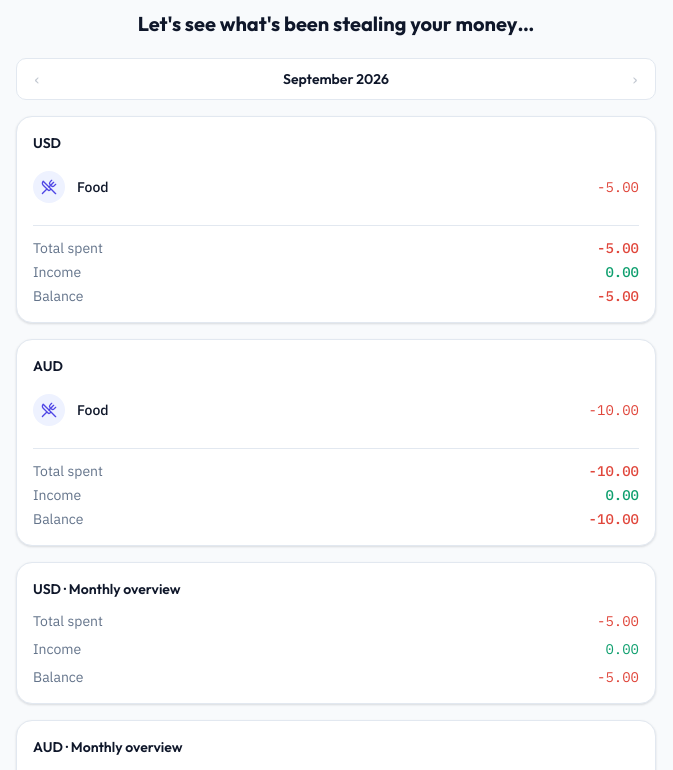
Test: 统计页 · 多币种 › 同名分类出现在两个币种里时，展开一个不会连带展开另一个
Expected: the heading "AUD" is shown, 33,356 -> 63,374
Note: 分类按钮的可访问名现在包含金额文本（按钮内聚了图标+标签+金额）→ 用正则匹配
Click the button "Food -10.00" at (49, 410), box 33,384 -> 639,436
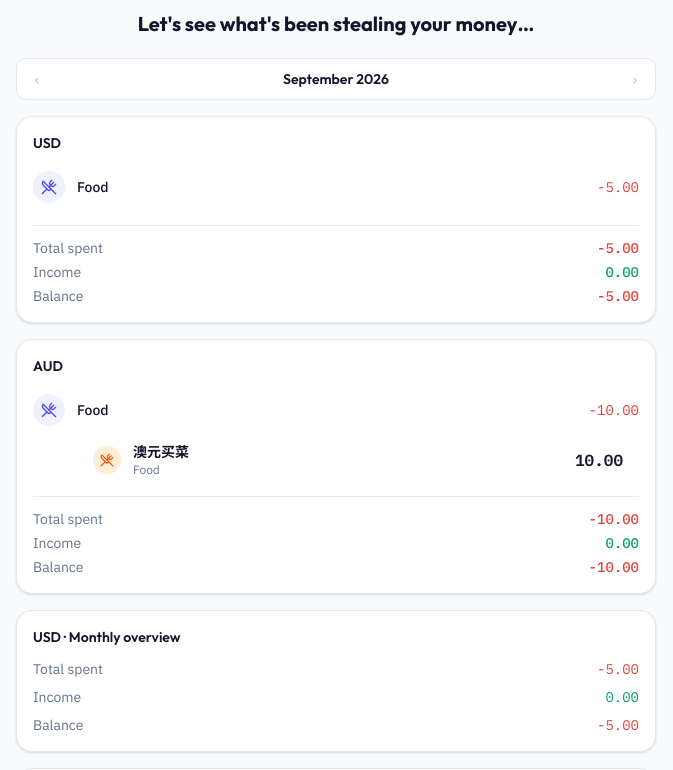
Expected: the text "澳元买菜" is shown, 133,442 -> 189,462
